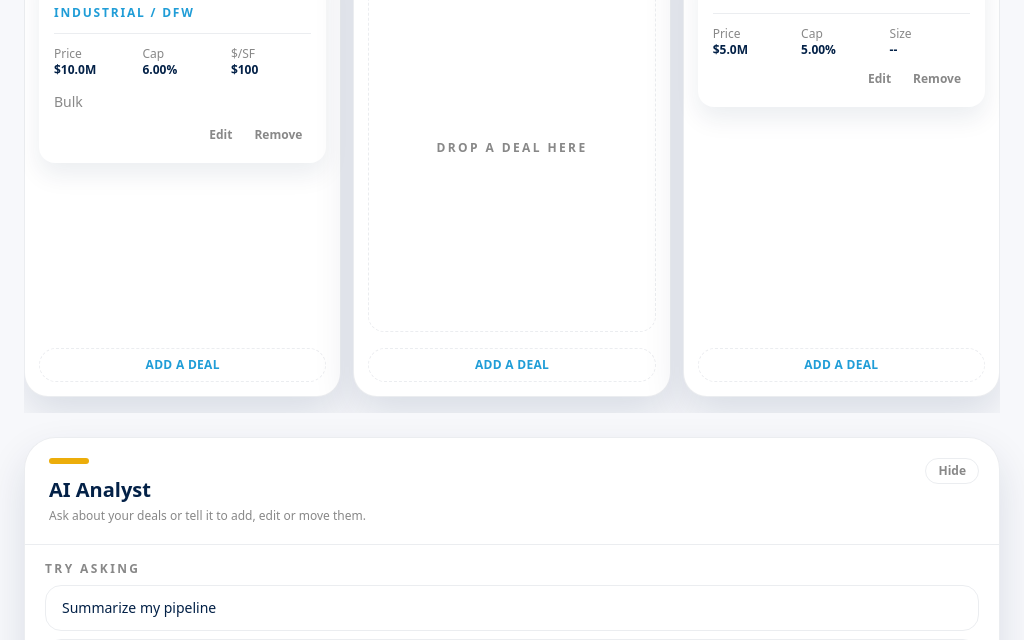
Test: KanbanBoard › adds a deal with numbers and saves
(page scrolled)
Click the 1st button "Add a deal": (183, 365) [39,348,326,382]
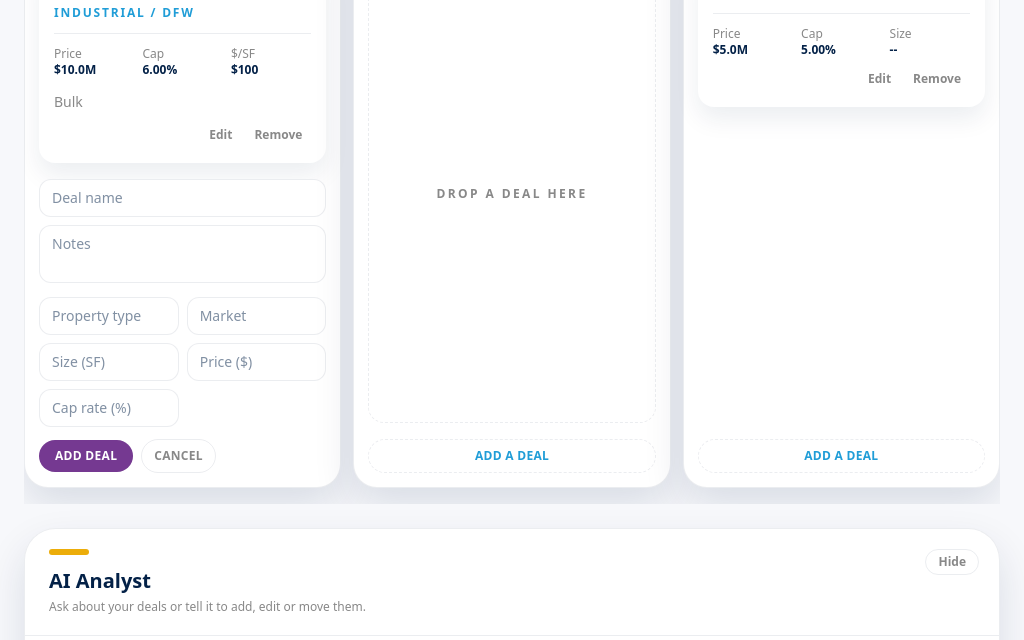
In the field with placeholder "Deal name": (183, 198) [39,179,326,217], type "New deal"
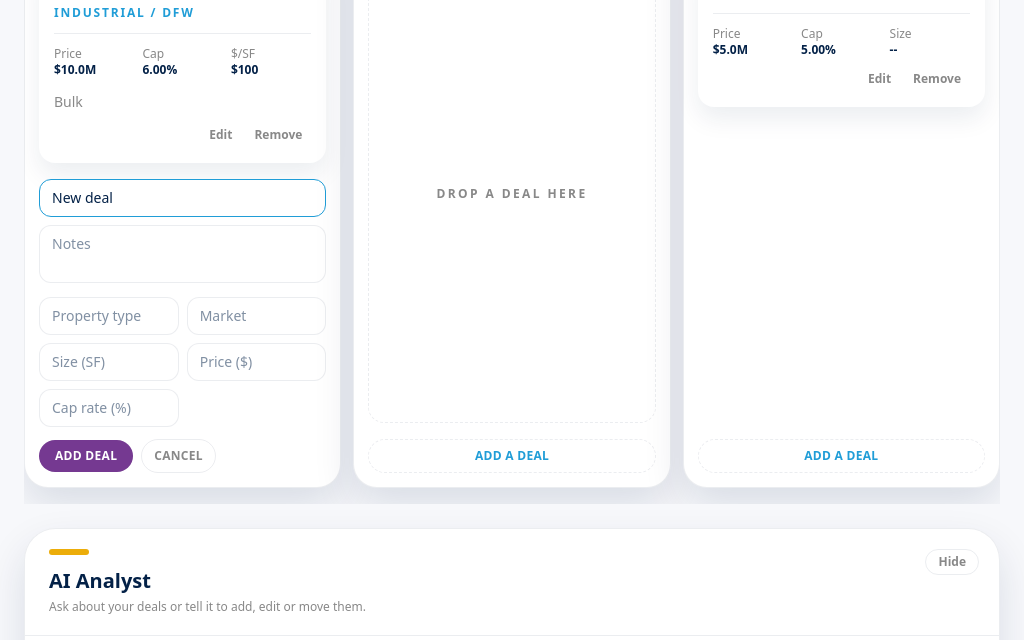
In the number field with placeholder "Price ($)": (257, 362) [187,343,326,381], type "2500000"
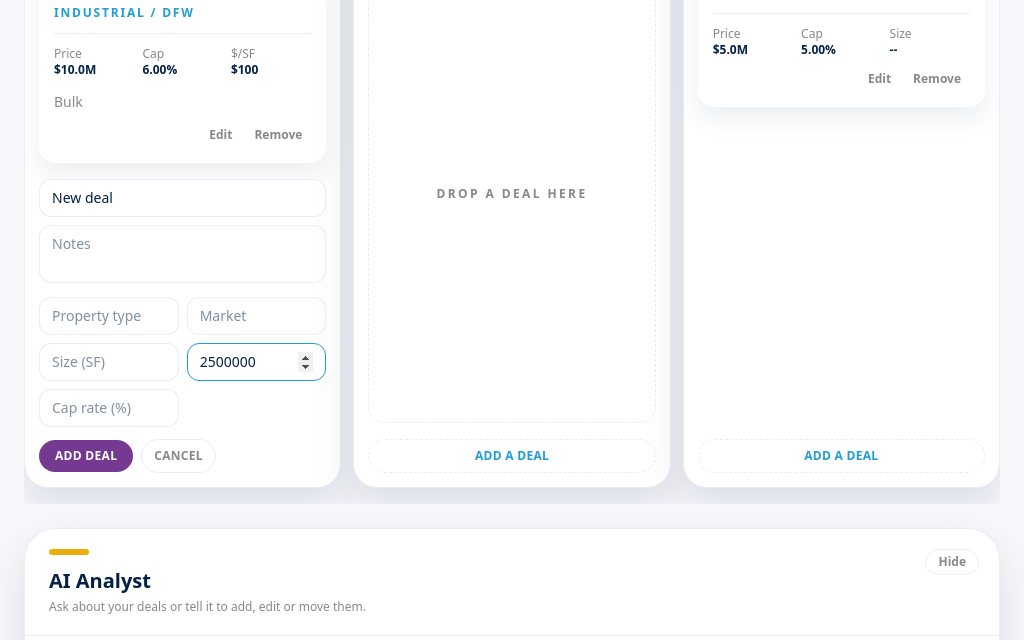
Click the button "Add deal": (86, 456) [39,440,133,472]
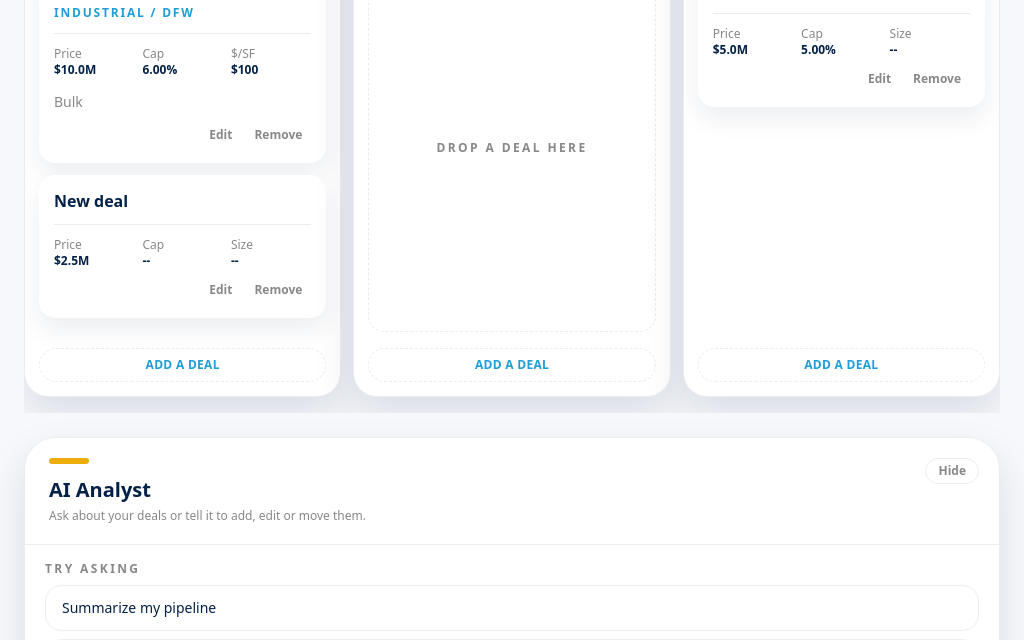
expect the heading "New deal" is shown: met, box [54,190,128,212]
